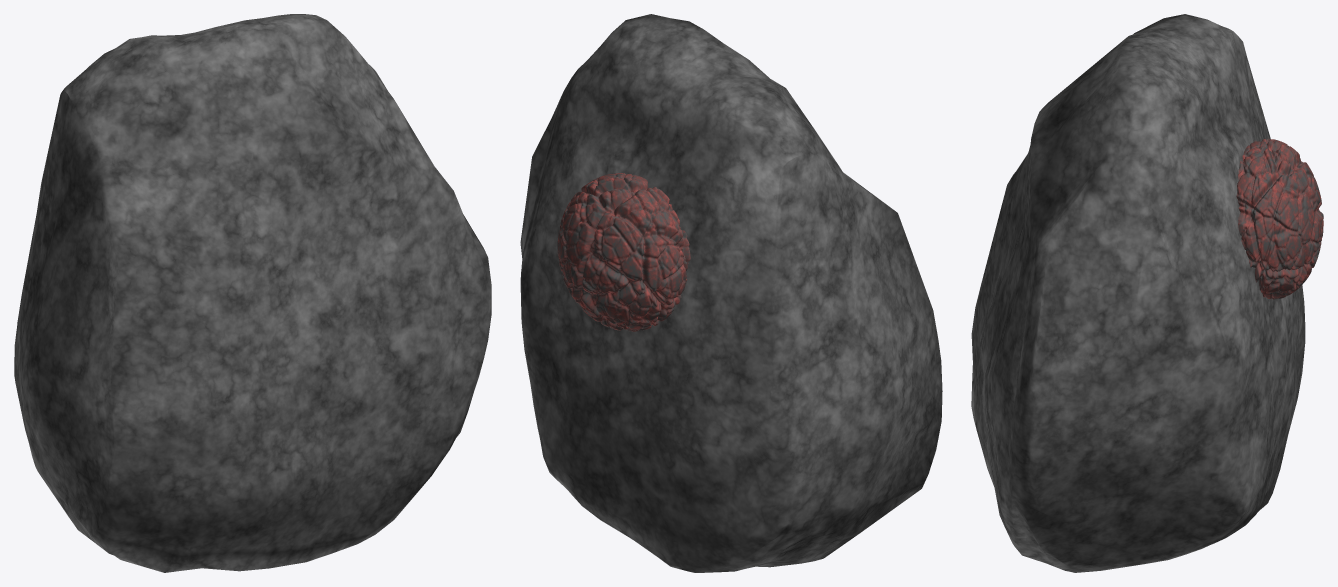
Rendered from button-new.fbx.
The picture shows the model from 3 angles, left to right: view 1: azimuth 30°, elevation 25°; view 2: azimuth 150°, elevation 25°; view 3: azimuth 270°, elevation 25°; orthographic projection.
Visible parts, largest first — view 1: rock; view 2: rock, button; view 3: rock, button.
Boxes of the visible parts, x1,y1,x2,y2 form: rock: [14, 14, 491, 572]; rock: [520, 14, 942, 572]; button: [557, 173, 690, 331]; rock: [971, 14, 1305, 572]; button: [1236, 138, 1323, 299].
Size of the model in its own units: 89.99 by 113 by 69.21.
